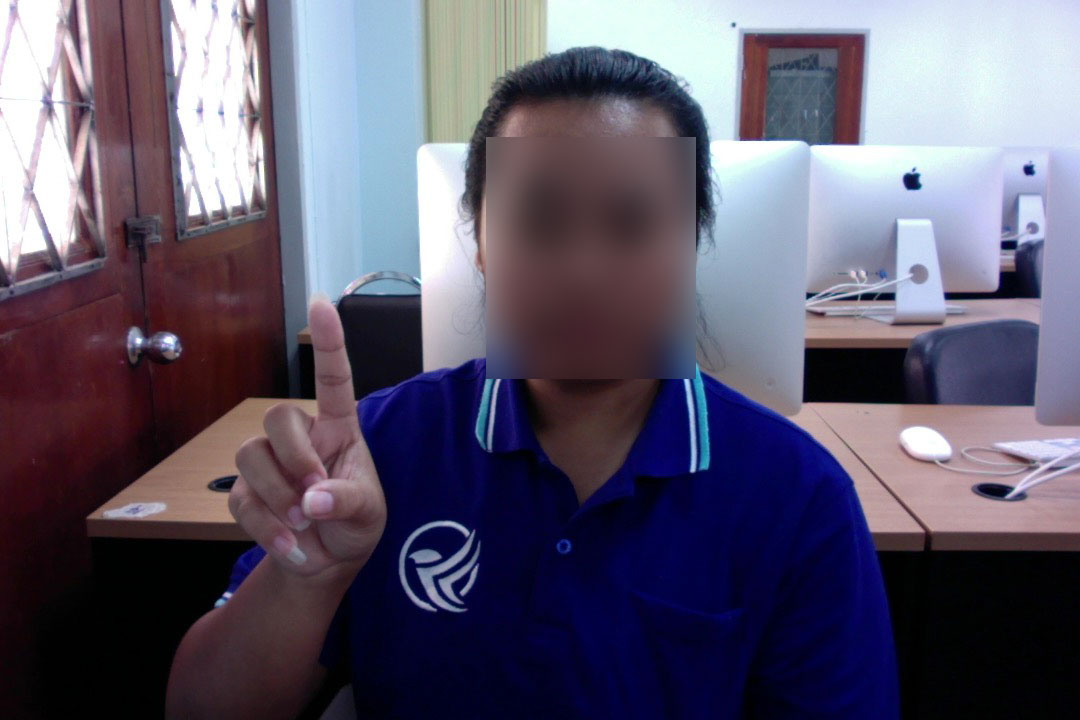dor: (221, 286, 396, 581)
